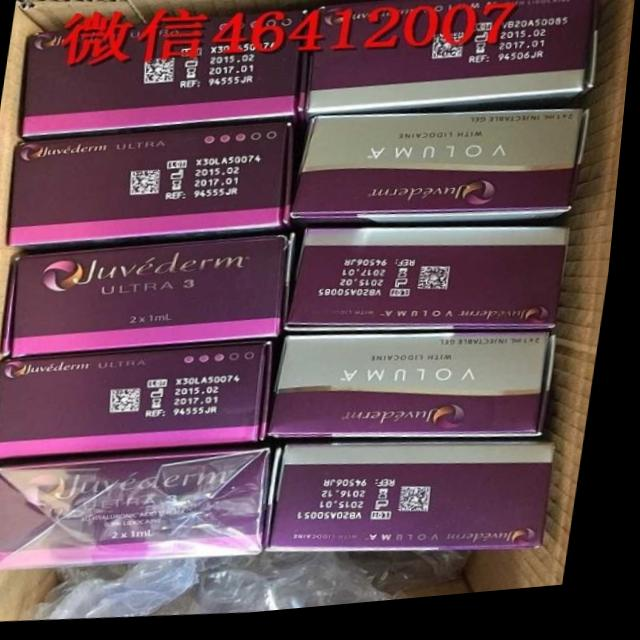box: (305, 0, 598, 122), (12, 126, 300, 250), (19, 16, 309, 139), (7, 243, 298, 364), (292, 121, 595, 237), (0, 454, 280, 572), (0, 350, 277, 465), (273, 341, 562, 450), (274, 451, 564, 559), (293, 235, 574, 340)
